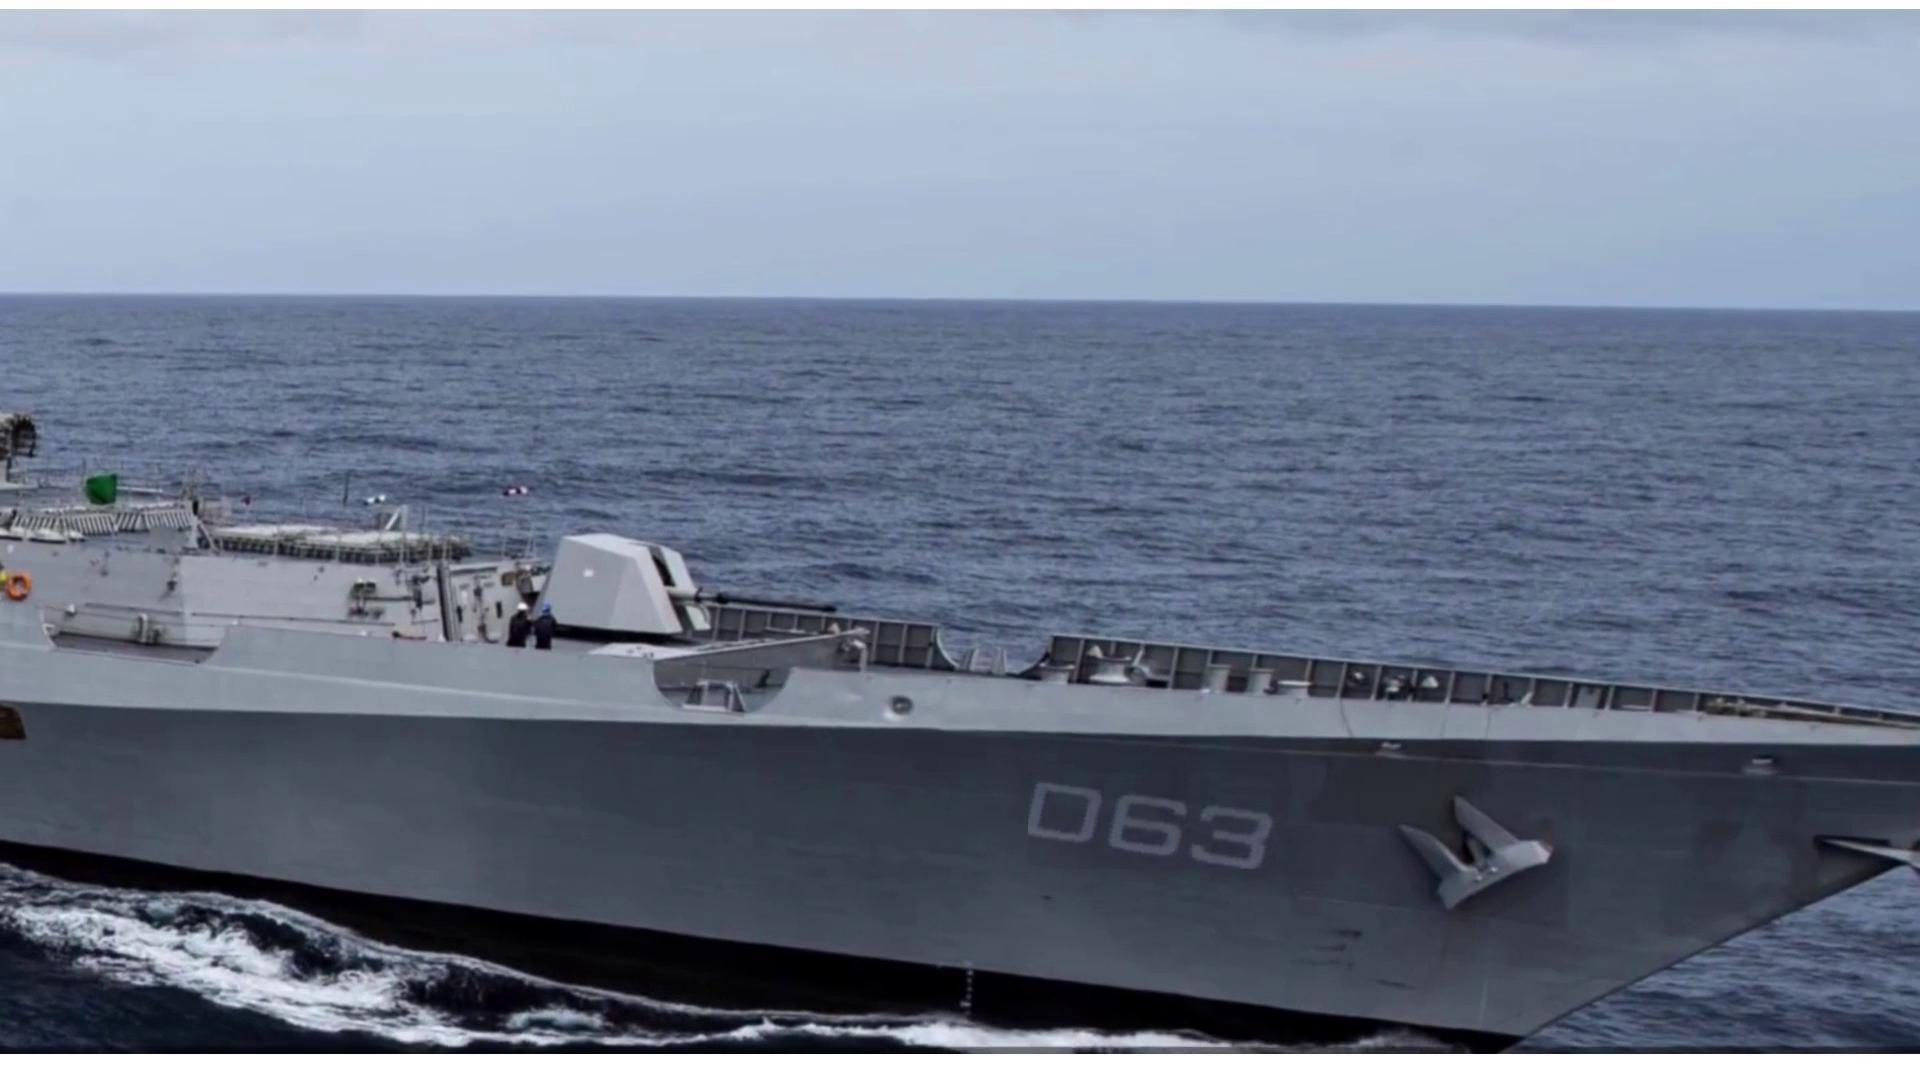OCR: (1029, 775, 1291, 869)
